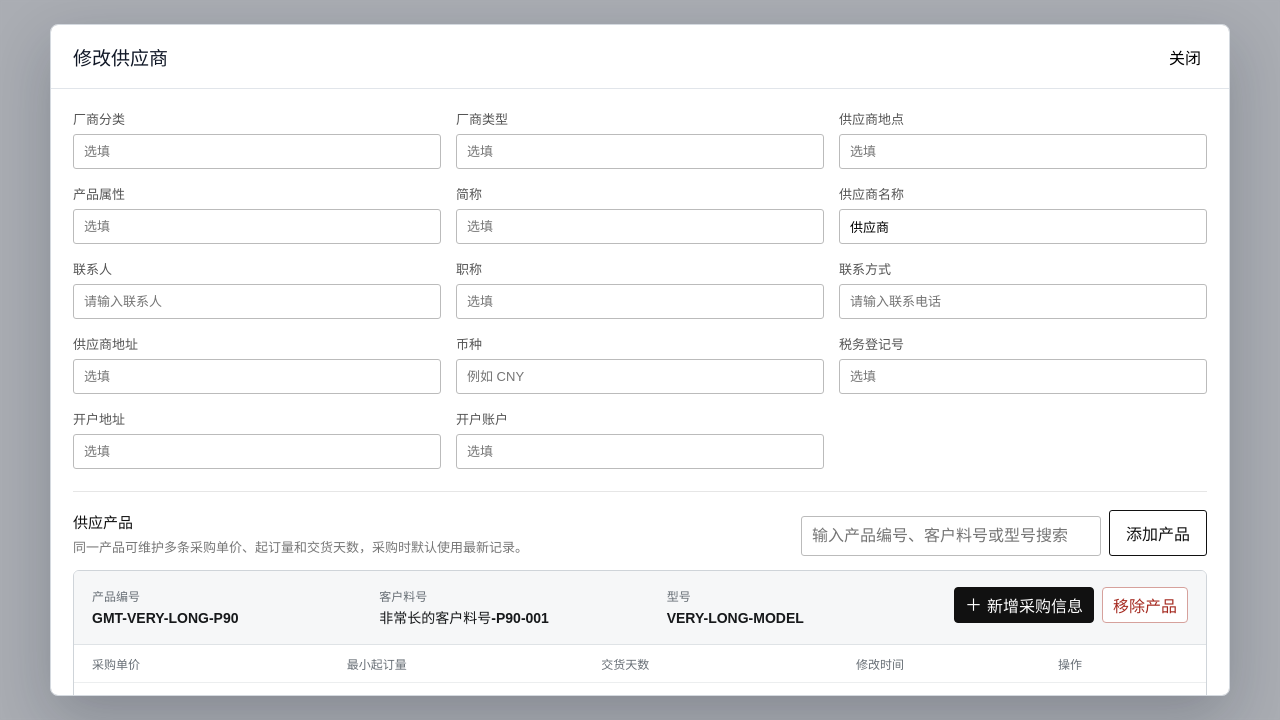
Test: shows the three complete product identifiers and edits multiple purchase infos
Expected: the element with test id "supplier-product-name-101" shows "非常长的客户料号-P90-001", [379,610,549,626]
Expected: the element with test id "supplier-product-name-101" shows "VERY-LONG-MODEL", [667,610,804,626]
Click the button with test id "add-purchase-info-101" at x=1024, y=605, box [954,587,1094,623]
(page scrolled)
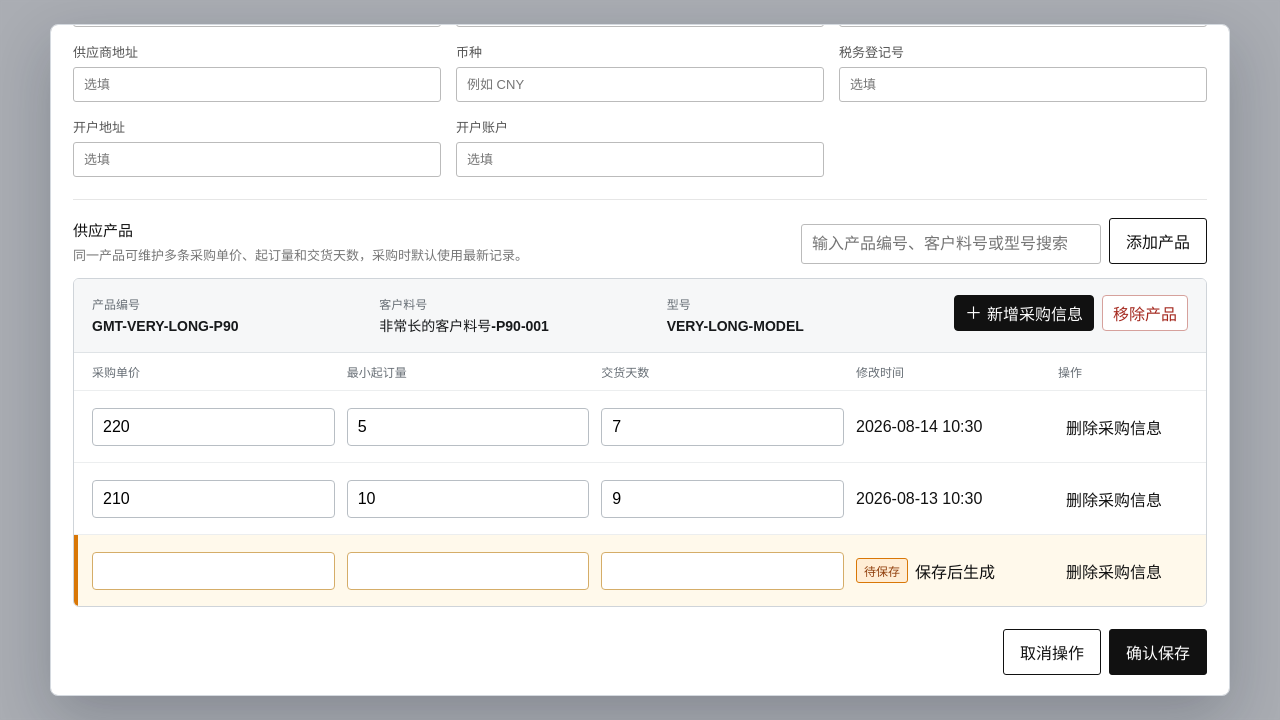
Expected: the text "待保存" is shown, [856,558,908,583]
